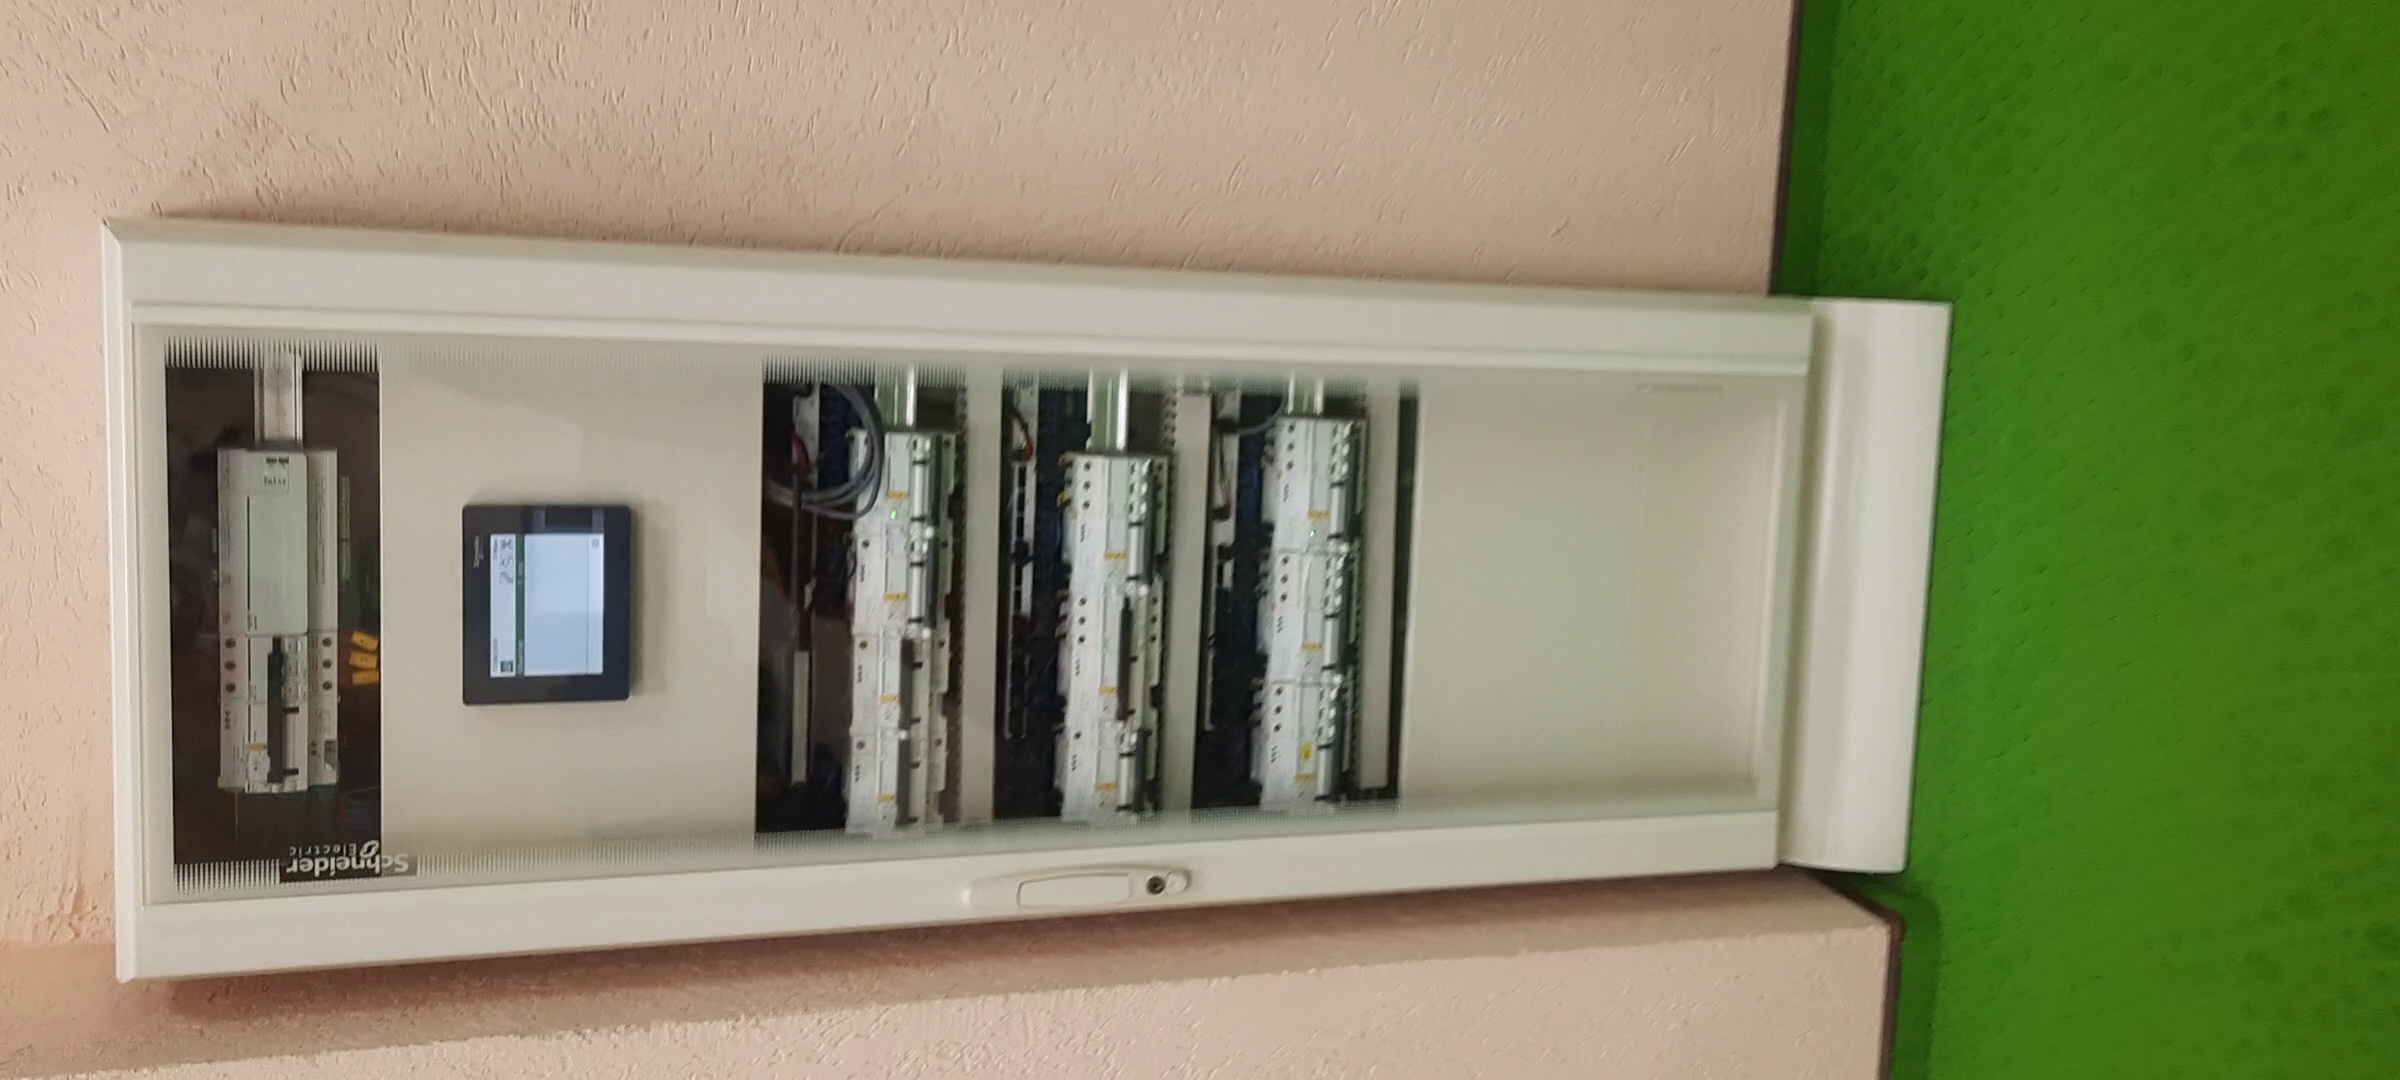smart_stand: (84, 203, 1938, 941)
